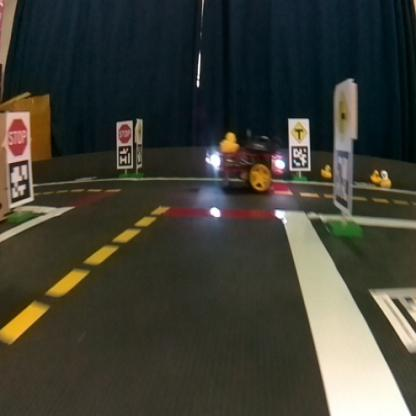duckie: (218, 130, 238, 160)
duckiebot: (204, 144, 294, 203)
